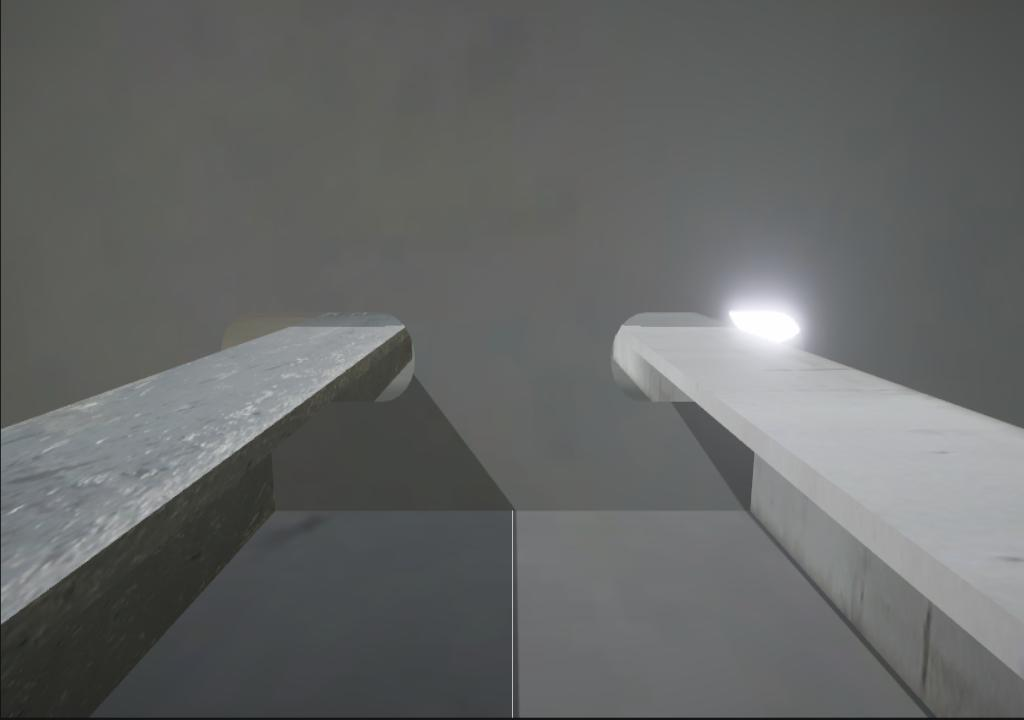fillet_yong_jeop_jang: (265, 494, 761, 528)
longi_yong_jeop_jang: (256, 434, 295, 522), (742, 445, 761, 521)
